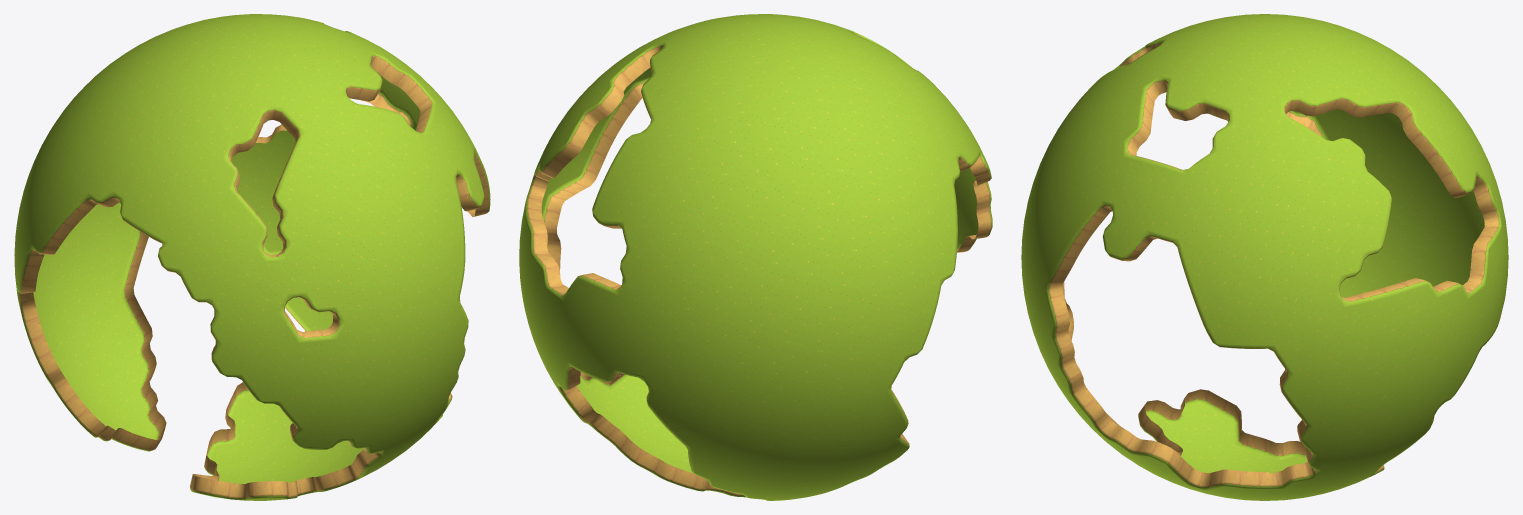
The model's file is planet_land_50%_clear_bridges.fbx.
3 renders of one model, left to right at view 1: azimuth 30°, elevation 25°; view 2: azimuth 150°, elevation 25°; view 3: azimuth 270°, elevation 25°, orthographic.
Parts seen in each view (by area): view 1: planet_land_50%_clear_bridges; view 2: planet_land_50%_clear_bridges; view 3: planet_land_50%_clear_bridges.
Part boxes in pixels (x1=…): planet_land_50%_clear_bridges: x1=14, y1=14, x2=490, y2=500; planet_land_50%_clear_bridges: x1=519, y1=14, x2=992, y2=500; planet_land_50%_clear_bridges: x1=1021, y1=14, x2=1508, y2=500.
Bounding box in the file's own units: 29.55 × 30 × 30.
